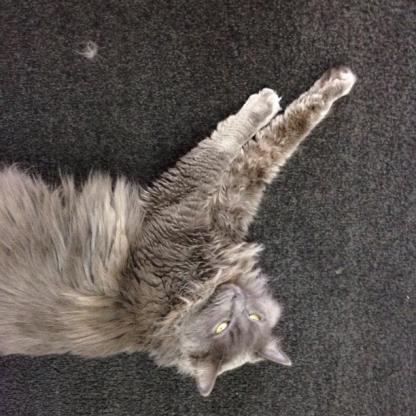Target: (2, 52, 365, 399)
